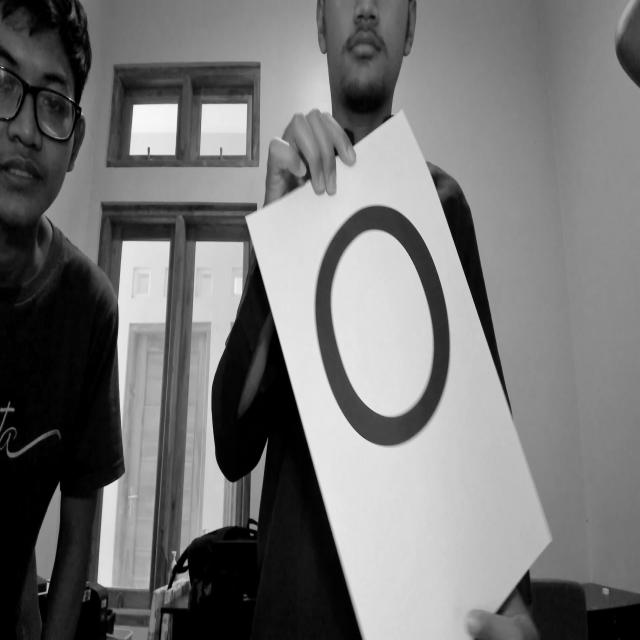o: (314, 187, 460, 469)
